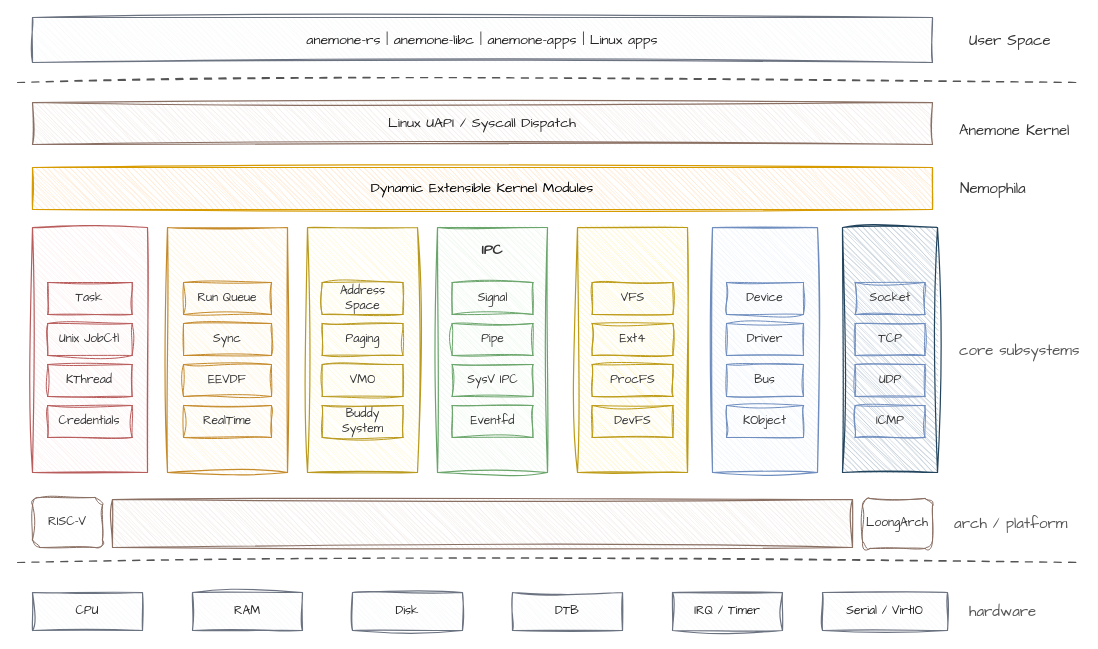
This 1098x649 diagram has some shape labels left out. The box of each missing label's shape, as (x1, y1, x2, y2) in pixels:
Arch HAL / Trap / Interrupt / Context / Clock: (111, 498, 853, 548)
Device Driver Model: (711, 226, 818, 473)
File System: (576, 226, 688, 473)
Memory: (306, 226, 418, 473)
Net: (841, 226, 938, 473)
Process: (31, 226, 148, 473)
Sched: (166, 226, 288, 473)
